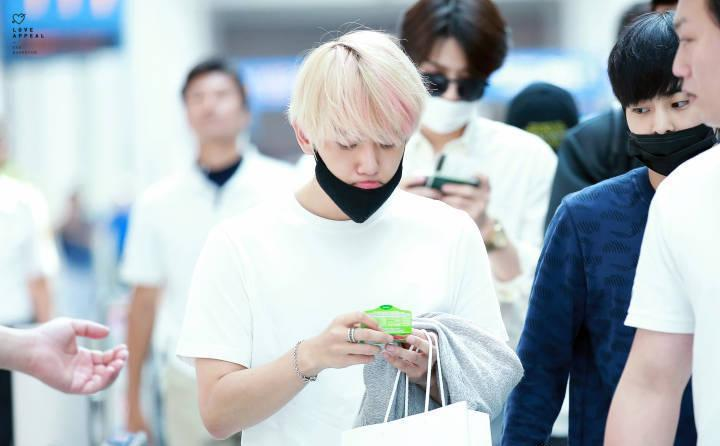NONE: (675, 29, 720, 134), (185, 81, 236, 135)
WRONG: (314, 125, 401, 212), (628, 95, 716, 177), (413, 64, 484, 136)
